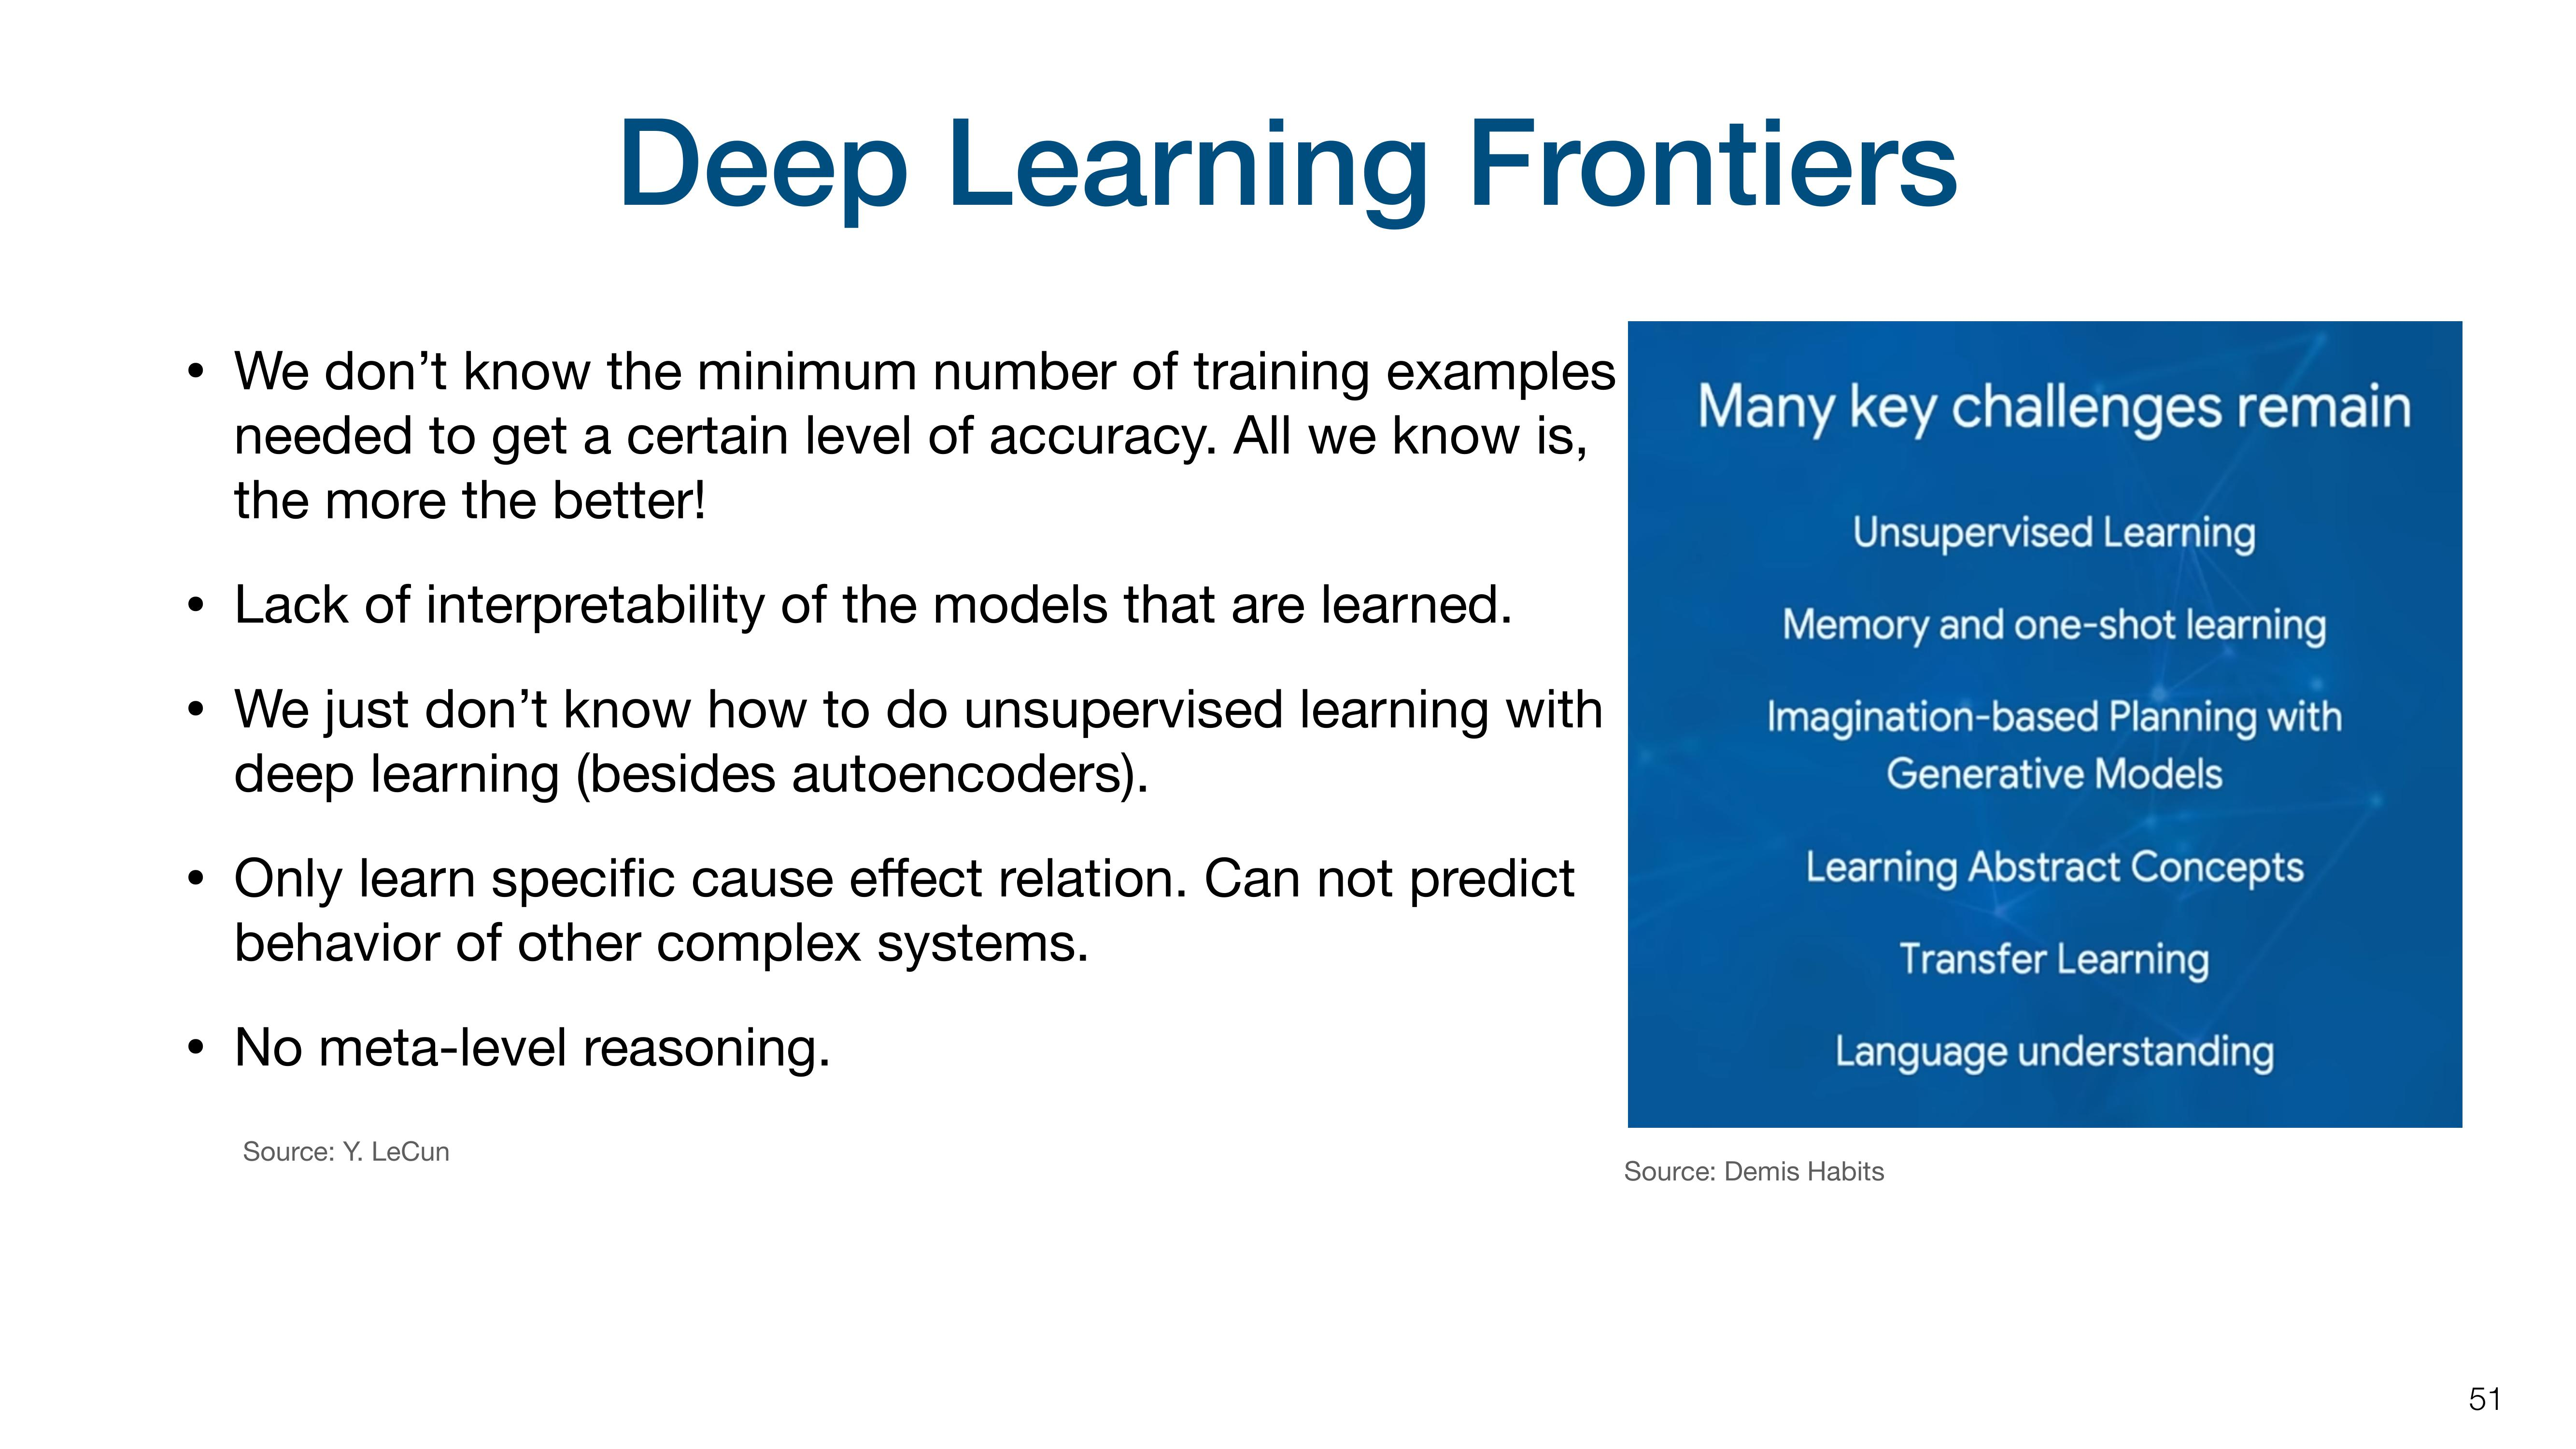Title: (596, 103, 1969, 248)
